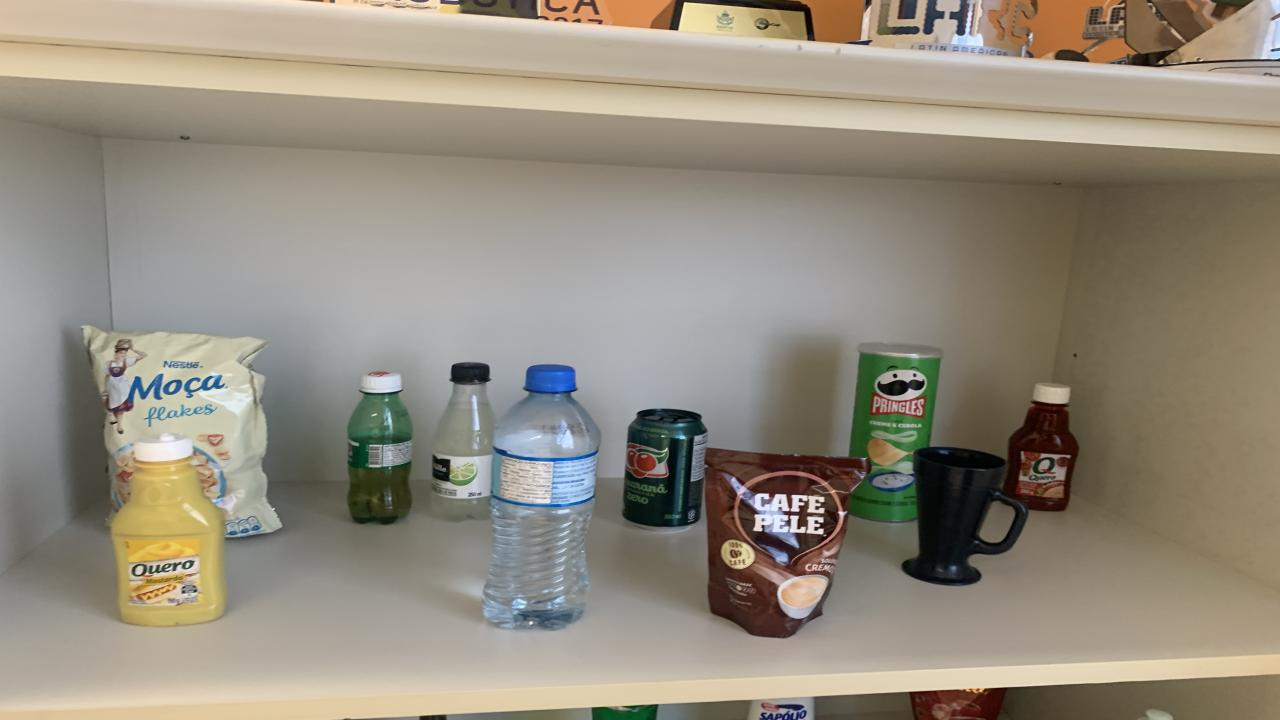Cleaner-Cleanup_Items: (748, 698, 815, 720)
Coffee-Pantry_Items: (705, 448, 870, 638)
Detergent-Cleanup_Items: (592, 705, 658, 720)
Flakes-Snacks: (82, 326, 282, 538)
Guarana-Drinks: (348, 371, 412, 523)
Guarana_Can-Drinks: (622, 409, 708, 531)
Ketchup-Pantry_Items: (1002, 382, 1078, 512)
Mustard-Pantry_Items: (110, 433, 225, 626)
Pringles-Snacks: (850, 343, 942, 523)
Soda-Drinks: (430, 362, 495, 521)
Tomato_Sauce-Pantry_Items: (910, 688, 1005, 720)
Water_Bottle-Drinks: (482, 364, 600, 628)
